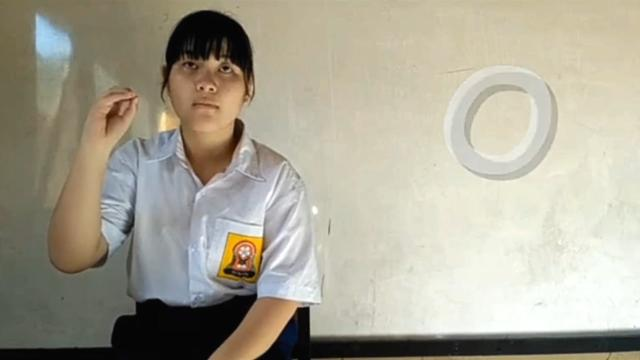O: (84, 82, 140, 154)
